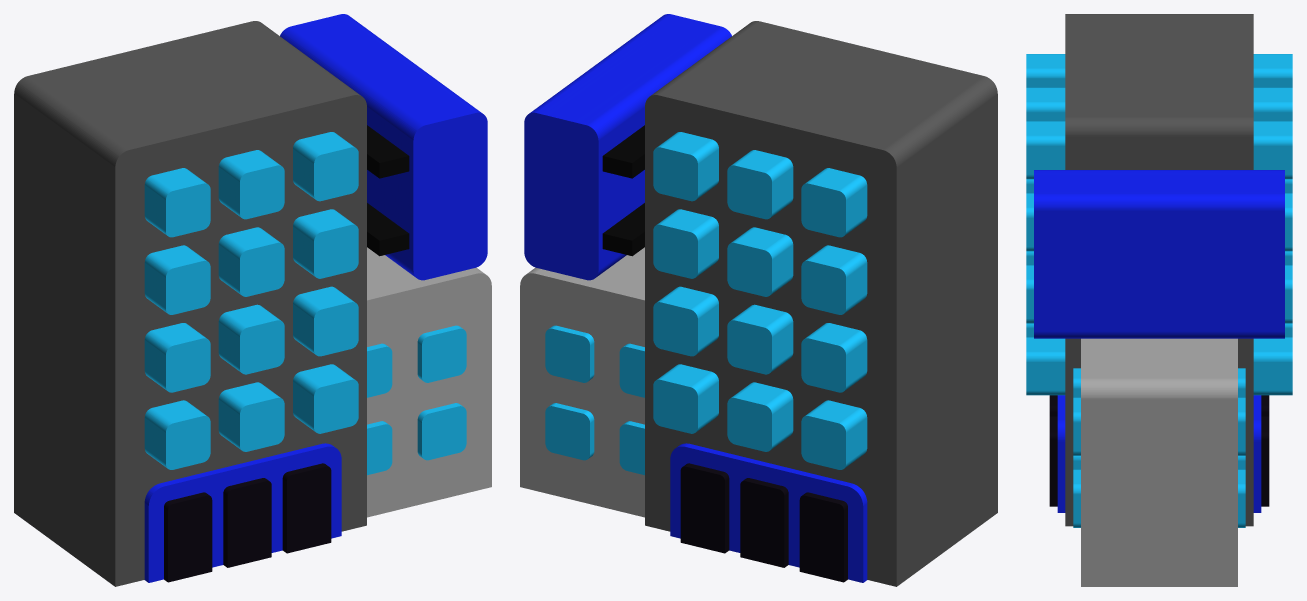
3 views of the same model, side by side, from view 1: azimuth 30°, elevation 25°; view 2: azimuth 150°, elevation 25°; view 3: azimuth 270°, elevation 25° (orthographic). The views are drawn at different scales.
Parts seen in each view (by area): view 1: U+1F3EC_layer02_obj00, U+1F3EC_layer07_obj00, U+1F3EC_layer06_obj00, U+1F3EC_layer00_obj00, U+1F3EC_layer04_obj00, U+1F3EC_layer03_obj00, U+1F3EC_layer01_obj00, U+1F3EC_layer05_obj00; view 2: U+1F3EC_layer02_obj00, U+1F3EC_layer07_obj00, U+1F3EC_layer06_obj00, U+1F3EC_layer00_obj00, U+1F3EC_layer04_obj00, U+1F3EC_layer03_obj00, U+1F3EC_layer01_obj00, U+1F3EC_layer05_obj00; view 3: U+1F3EC_layer06_obj00, U+1F3EC_layer00_obj00, U+1F3EC_layer02_obj00, U+1F3EC_layer07_obj00, U+1F3EC_layer01_obj00, U+1F3EC_layer03_obj00, U+1F3EC_layer04_obj00.
Part boxes in pixels (x1=…): U+1F3EC_layer02_obj00: x1=14, y1=21, x2=366, y2=586; U+1F3EC_layer07_obj00: x1=144, y1=132, x2=358, y2=469; U+1F3EC_layer06_obj00: x1=280, y1=14, x2=487, y2=280; U+1F3EC_layer00_obj00: x1=367, y1=247, x2=491, y2=517; U+1F3EC_layer04_obj00: x1=164, y1=463, x2=331, y2=582; U+1F3EC_layer03_obj00: x1=144, y1=443, x2=341, y2=582; U+1F3EC_layer01_obj00: x1=367, y1=325, x2=466, y2=475; U+1F3EC_layer05_obj00: x1=367, y1=125, x2=409, y2=256; U+1F3EC_layer02_obj00: x1=645, y1=21, x2=997, y2=586; U+1F3EC_layer07_obj00: x1=653, y1=132, x2=867, y2=469; U+1F3EC_layer06_obj00: x1=524, y1=14, x2=731, y2=280; U+1F3EC_layer00_obj00: x1=520, y1=247, x2=644, y2=517; U+1F3EC_layer04_obj00: x1=680, y1=463, x2=847, y2=582; U+1F3EC_layer03_obj00: x1=670, y1=443, x2=867, y2=582; U+1F3EC_layer01_obj00: x1=545, y1=325, x2=644, y2=475; U+1F3EC_layer05_obj00: x1=602, y1=125, x2=644, y2=256; U+1F3EC_layer06_obj00: x1=1034, y1=170, x2=1284, y2=338; U+1F3EC_layer00_obj00: x1=1081, y1=338, x2=1237, y2=586; U+1F3EC_layer02_obj00: x1=1065, y1=14, x2=1253, y2=526; U+1F3EC_layer07_obj00: x1=1026, y1=54, x2=1292, y2=395; U+1F3EC_layer01_obj00: x1=1073, y1=368, x2=1245, y2=527; U+1F3EC_layer03_obj00: x1=1057, y1=395, x2=1261, y2=512; U+1F3EC_layer04_obj00: x1=1049, y1=395, x2=1269, y2=506.
Size of the model in its own units: 0.5272 by 0.5677 by 0.34.
